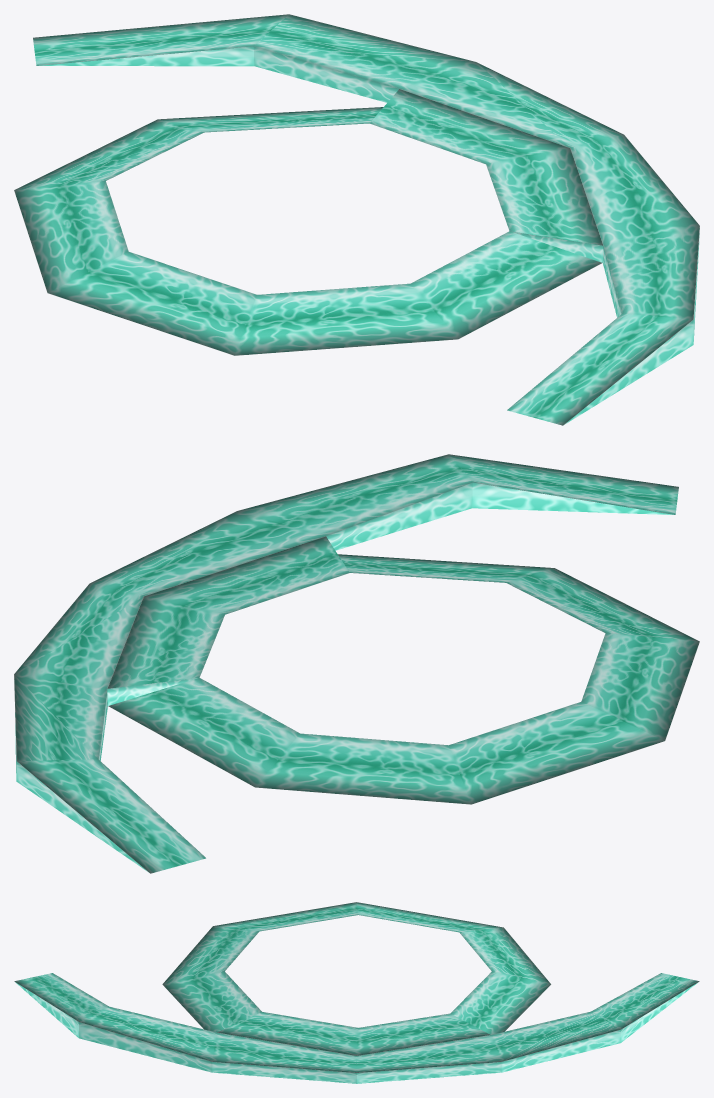
3 renders of one model, top to bottom at view 1: azimuth 30°, elevation 25°; view 2: azimuth 150°, elevation 25°; view 3: azimuth 270°, elevation 25°, orthographic. The views are drawn at different scales.
Parts seen in each view (by area): view 1: Object01; view 2: Object01; view 3: Object01.
Part boxes in pixels (left/top/right/bottom): Object01: left=14, top=14, right=699, bottom=425; Object01: left=14, top=454, right=699, bottom=873; Object01: left=14, top=902, right=699, bottom=1083.
Size of the model in its own units: 2960 by 126 by 4709.
1 material, 1 textured.
